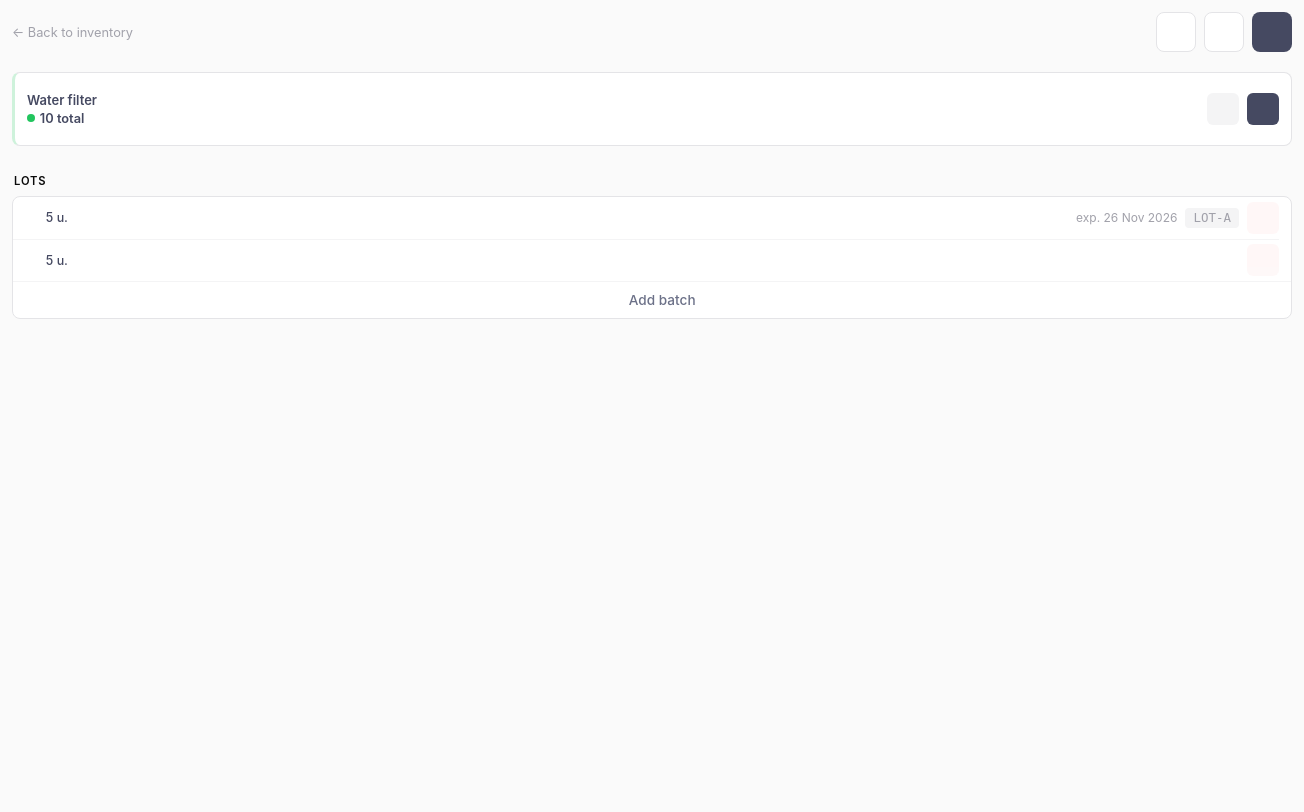
Test case: StockDetailPage › suggests existing lot numbers and fills the input on selection
This screenshot has width=1304, height=812.
Expected: the text "Water filter" is shown, [27,92,97,108]
Click the button with test id "add-lot-toggle" at (652, 300), box [13,281,1291,318]
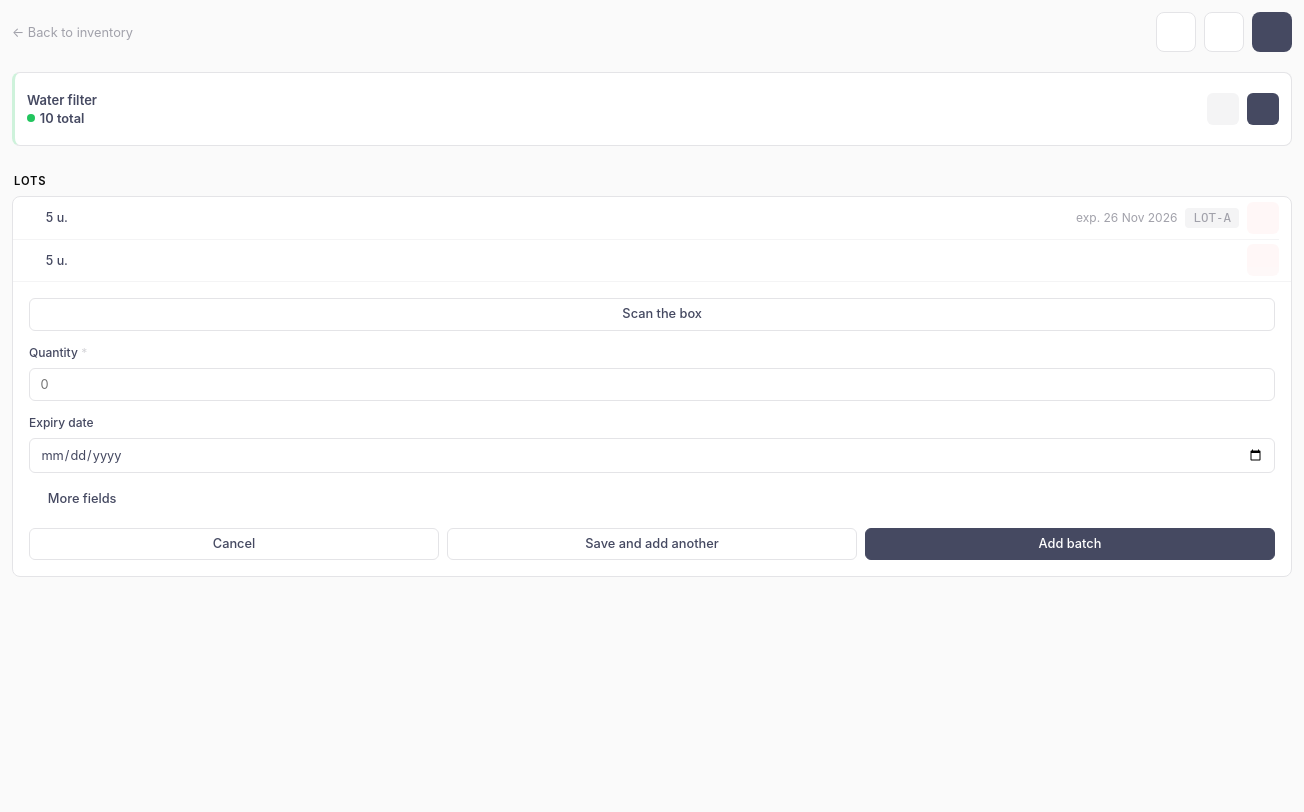
Click the button with test id "more-fields" at (73, 498), box [29,486,116,510]
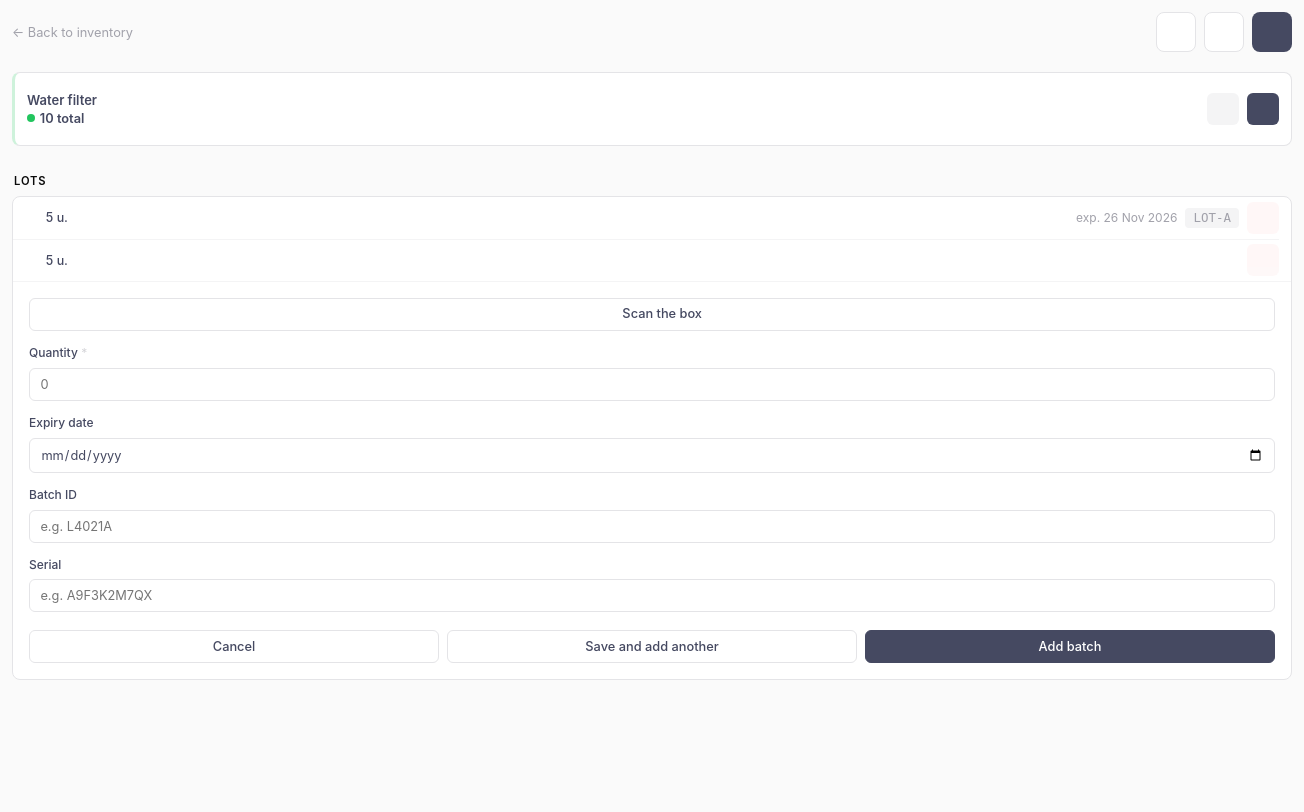
Click the dropdown with placeholder "e.g. L4021A" at (652, 526), box [29,510,1275,542]
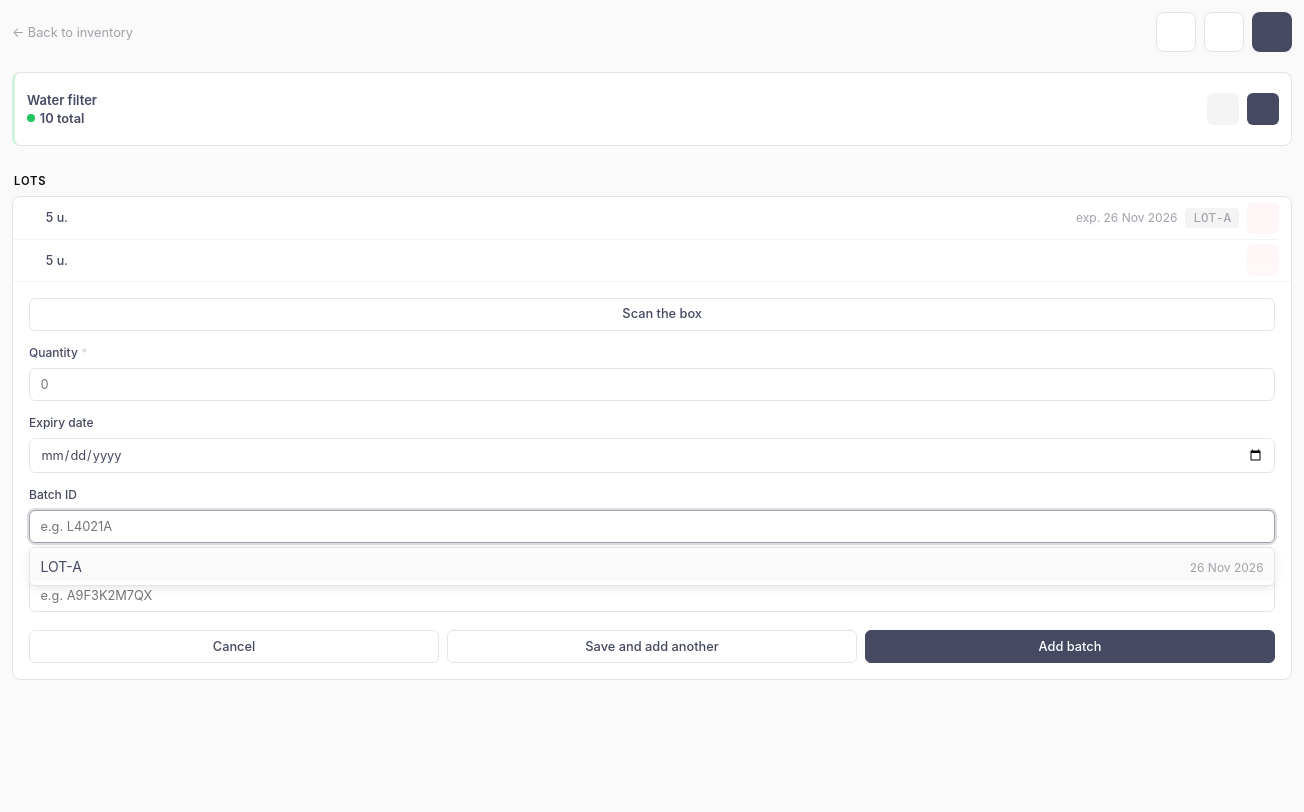
Click the option "LOT-A 26 Nov 2026" at (61, 566), box [30,552,1274,581]
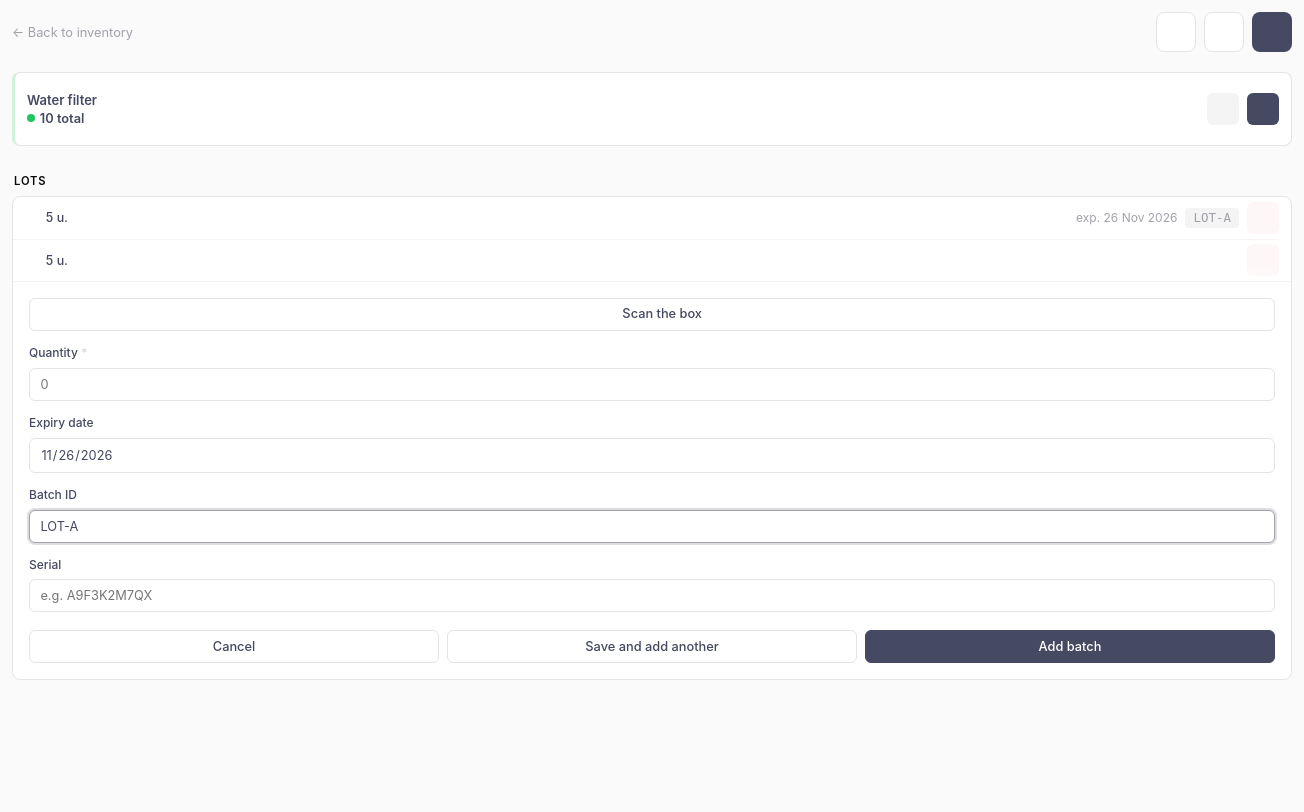
Expected: the dropdown with placeholder "e.g. L4021A" holds "LOT-A", [29,510,1275,542]
